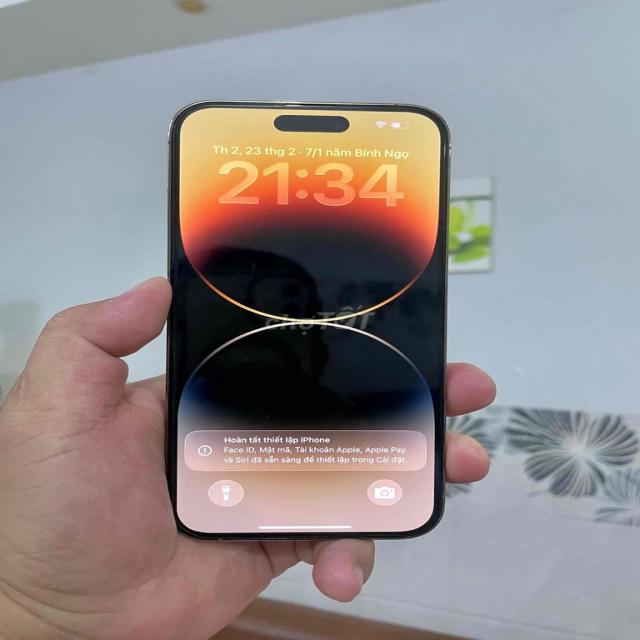gen_14: (154, 88, 455, 544)
